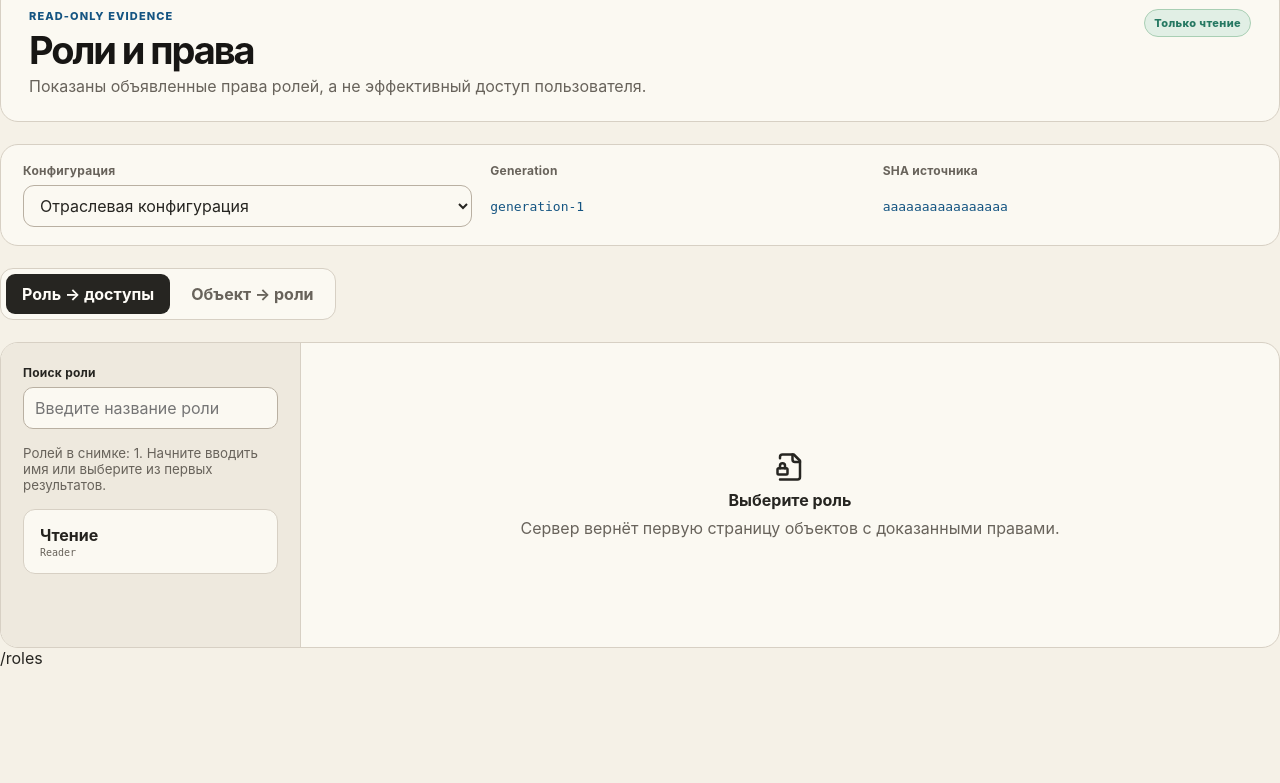
Test case: дочитывает длинное RLS в то же окно без замены уже загруженного текста
Click the button "Чтение Reader" at (150, 542), box top-left (30, 516), bottom-right (271, 567)
(page scrolled)
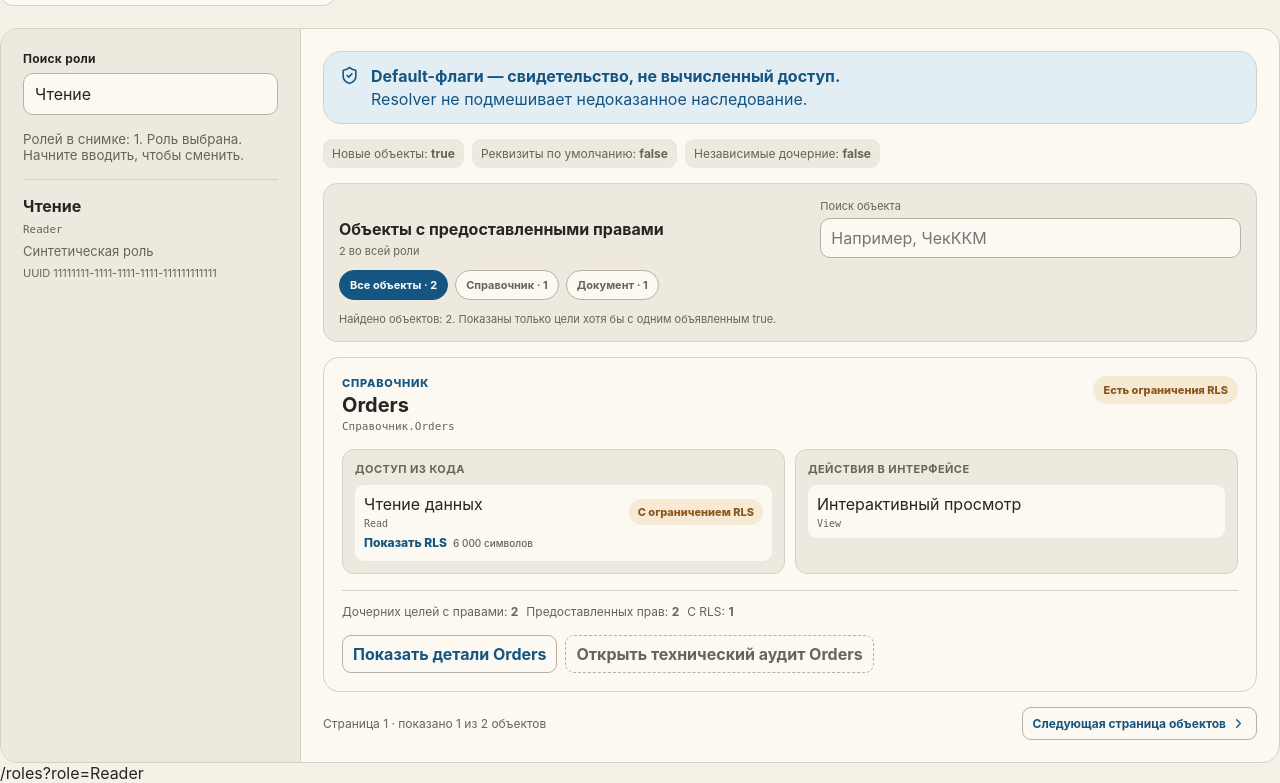
Result: the heading "Orders" is shown at top-left (342, 393), bottom-right (409, 417)
Click the button "Показать RLS 6 000 символов" at (448, 543), box top-left (364, 533), bottom-right (533, 552)
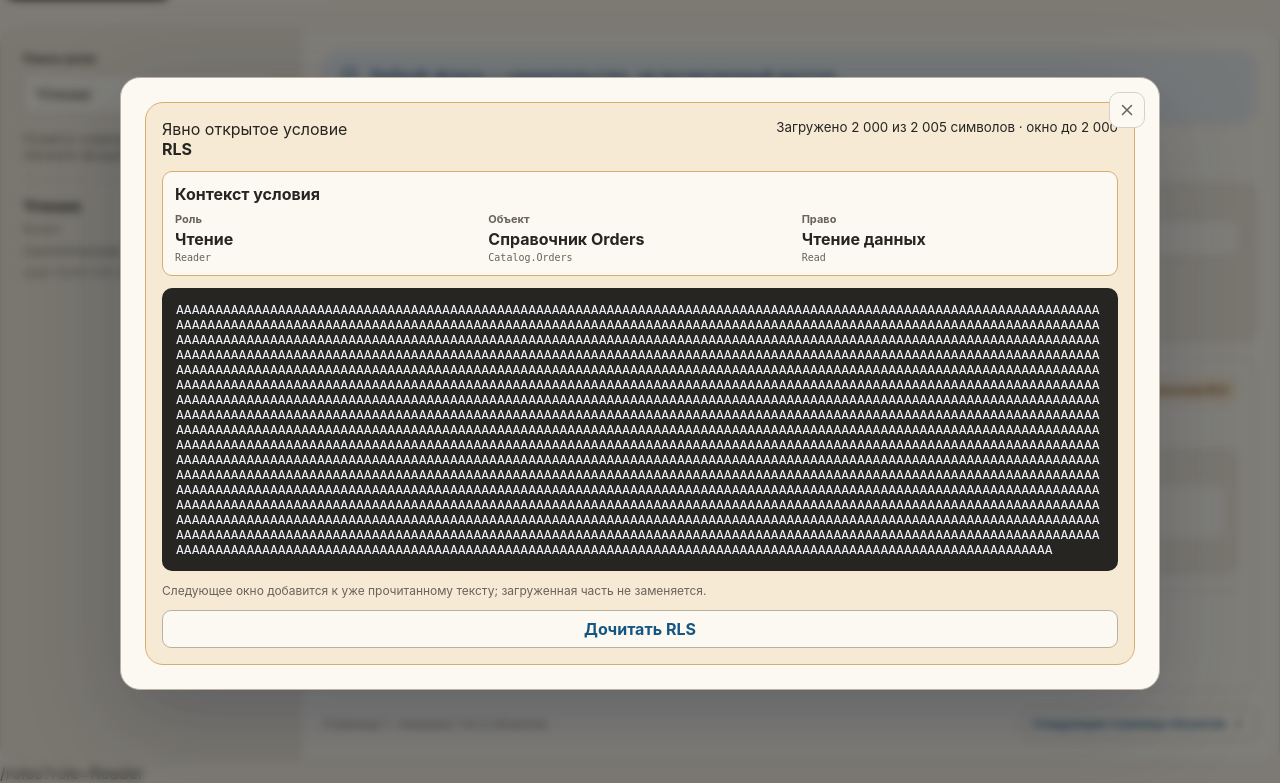
Click the button "Дочитать RLS" at (640, 628), box top-left (162, 610), bottom-right (1118, 648)
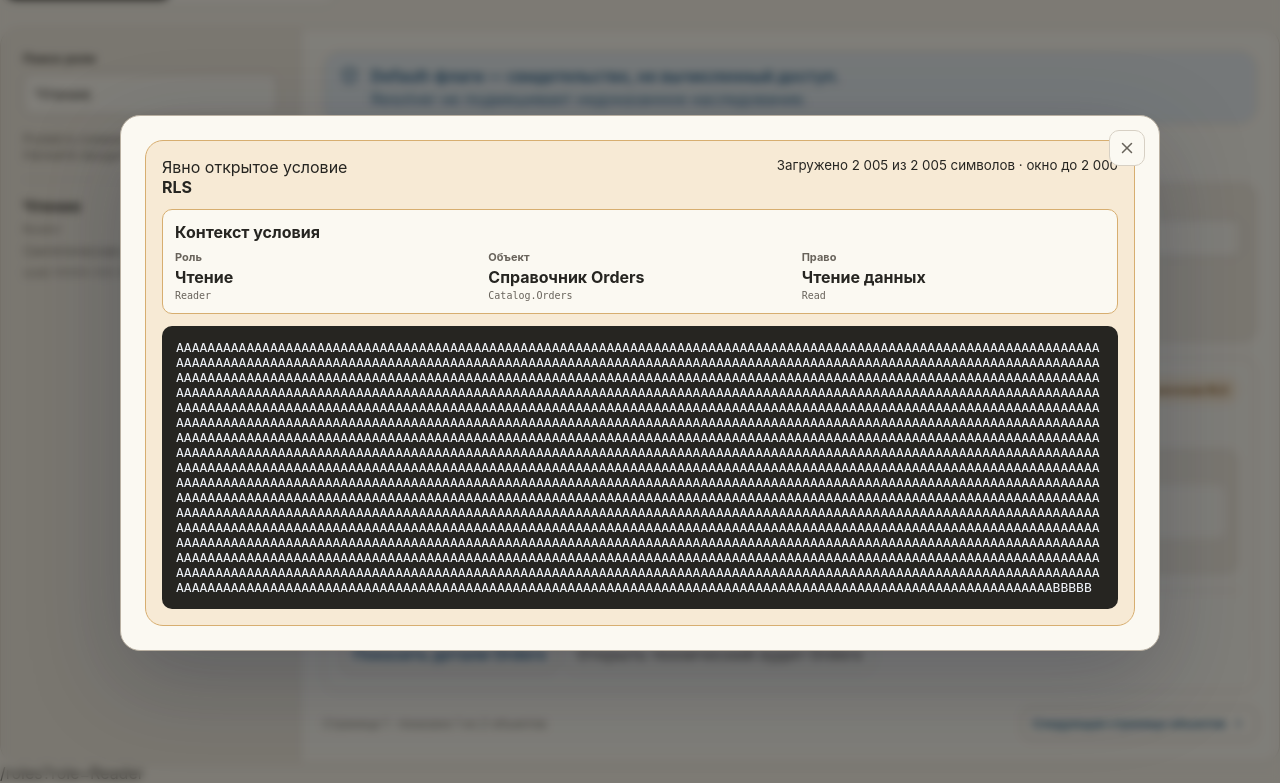
Result: the text "Загружено 2 005 из 2 005 символов · окно до 2 000" is shown at top-left (777, 157), bottom-right (1118, 173)
Result: the button "Дочитать RLS" is gone
